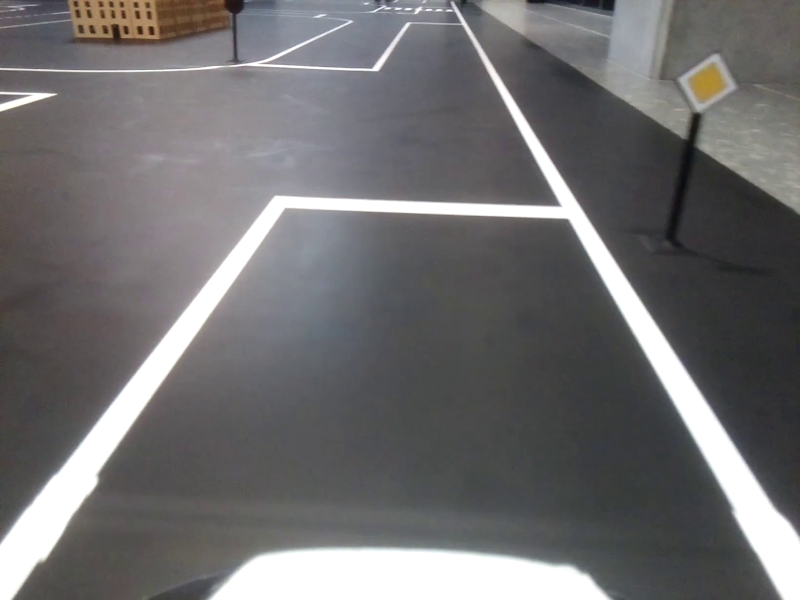priority: (679, 56, 733, 109)
